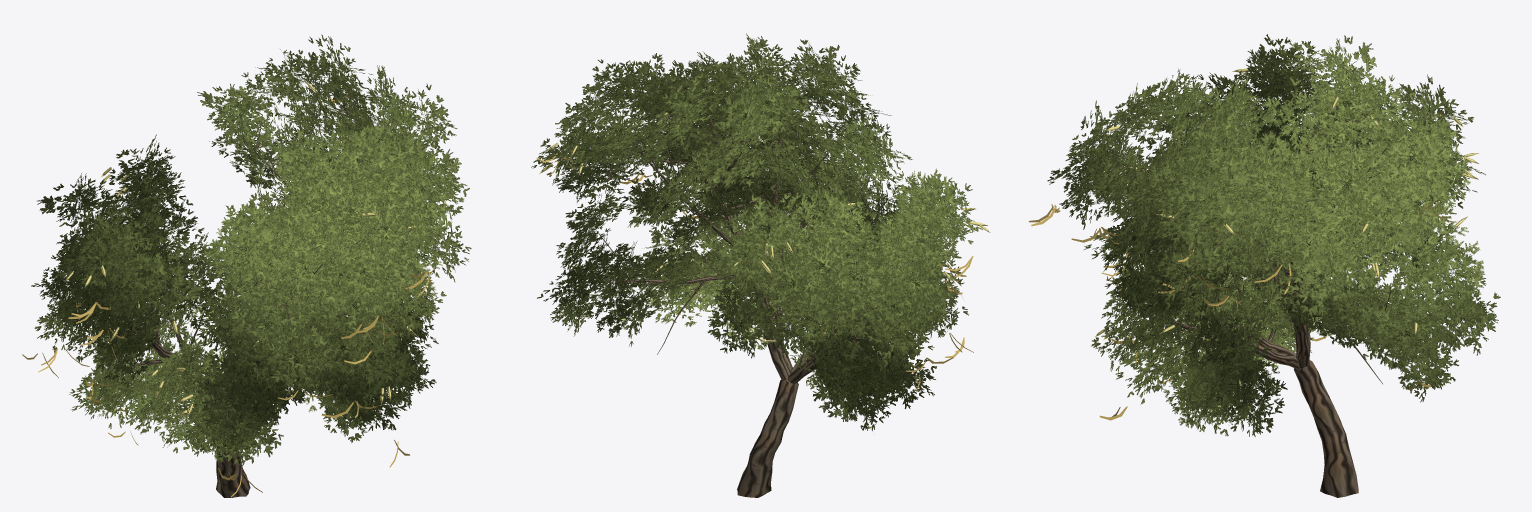
The model's file is young-a.lod0.glb.
The picture shows the model from 3 angles, left to right: view 1: azimuth 30°, elevation 25°; view 2: azimuth 150°, elevation 25°; view 3: azimuth 270°, elevation 25°; orthographic projection. The views are drawn at different scales.
Visible parts, largest first — view 1: foliage, bark, fruit, flowers; view 2: foliage, bark, fruit, flowers; view 3: foliage, bark, fruit, flowers.
Boxes of the visible parts, x1,y1,x2,y2 form: foliage: (31, 34, 471, 465); bark: (88, 88, 421, 497); fruit: (22, 91, 438, 497); flowers: (64, 56, 448, 434); foliage: (531, 33, 982, 430); bark: (585, 73, 920, 497); fruit: (536, 132, 973, 428); flowers: (539, 63, 989, 398); foliage: (1047, 34, 1500, 436); bark: (1115, 106, 1442, 497); fruit: (1029, 113, 1453, 420); flowers: (1094, 62, 1478, 415).
Size of the model in its own units: 3.65 by 3.5 by 3.34.
5 materials, 2 textured.
